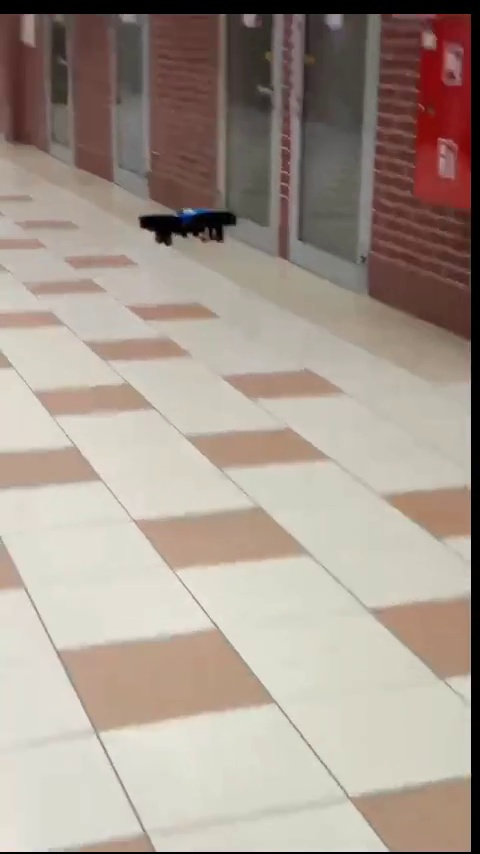drone: (140, 208, 236, 243)
